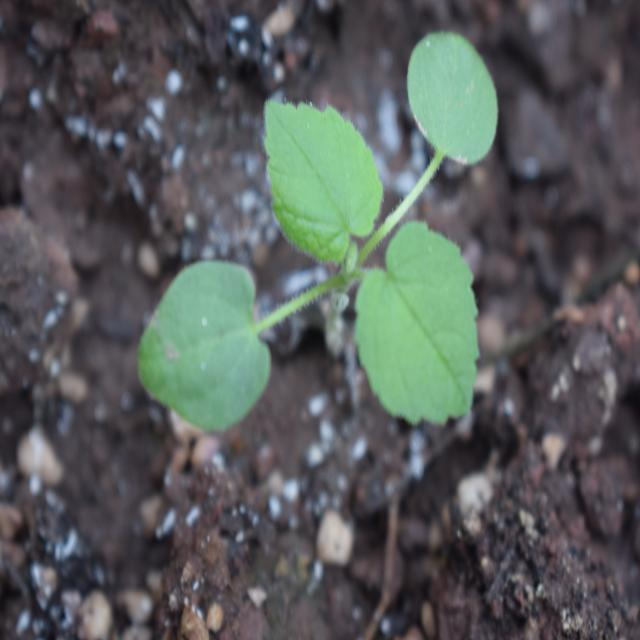abutilon theophrasti: (145, 63, 502, 478)
